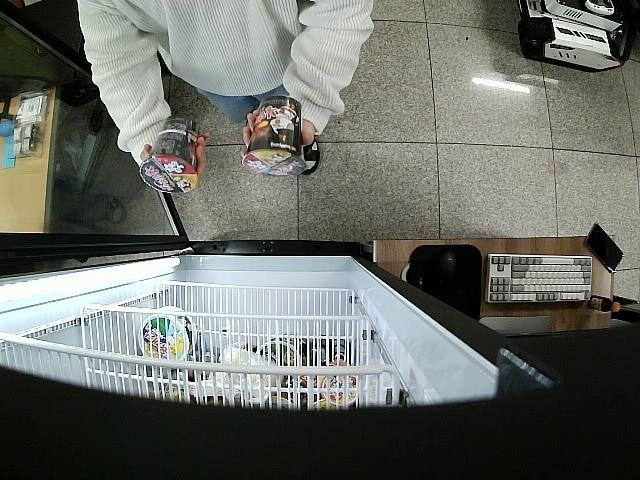08_buldak_S: (243, 94, 306, 180), (140, 115, 200, 194)
